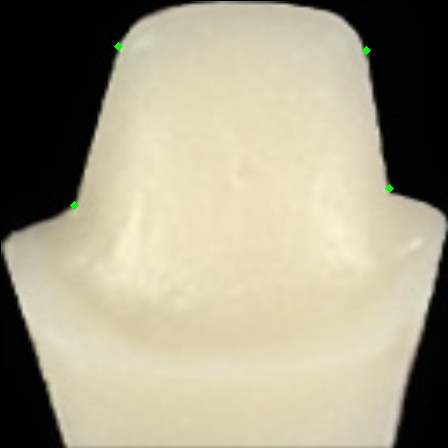coin_1: (389, 188, 409, 208)
coin_2: (366, 50, 386, 70)
coin_3: (74, 205, 94, 225)
coin_4: (118, 46, 138, 66)
